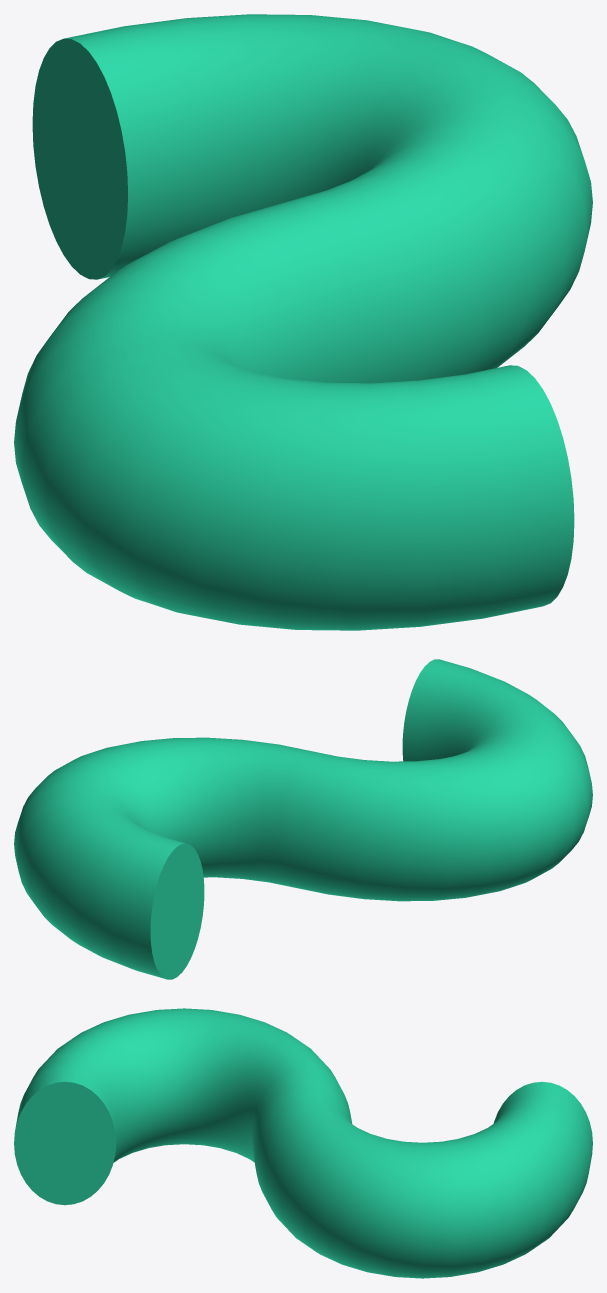
File: SM_SpellPickup1.FBX
The picture shows the model from 3 angles, top to bottom: view 1: azimuth 30°, elevation 25°; view 2: azimuth 150°, elevation 25°; view 3: azimuth 270°, elevation 25°; orthographic projection. The views are drawn at different scales.
Visible parts, largest first — view 1: SM_SpellPickup1; view 2: SM_SpellPickup1; view 3: SM_SpellPickup1.
Part boxes in pixels (box(x1,y1,x2,y2)): SM_SpellPickup1: box(14, 14, 592, 630); SM_SpellPickup1: box(14, 659, 592, 979); SM_SpellPickup1: box(14, 1008, 592, 1278).
Bounding box in the file's own units: 50 × 63.75 × 15.
